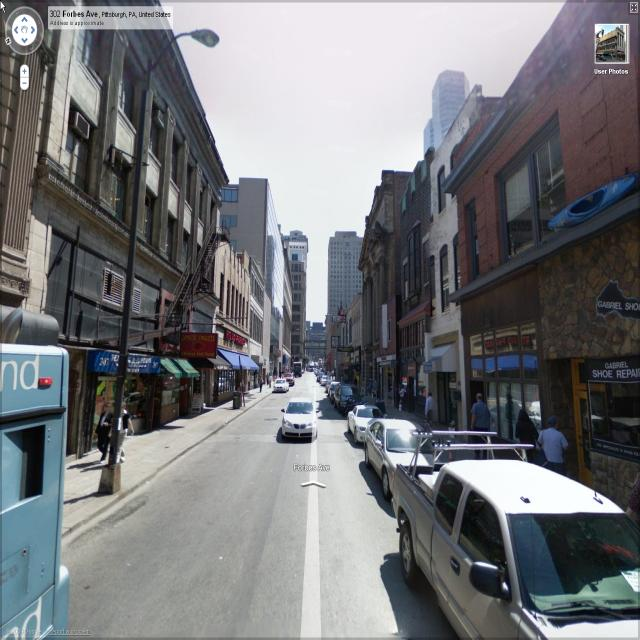b_1: (462, 95, 640, 508), (6, 1, 216, 350), (432, 111, 498, 420), (370, 158, 420, 414), (400, 167, 440, 412), (243, 164, 288, 368), (196, 234, 253, 363), (274, 224, 324, 371), (414, 72, 478, 160), (324, 233, 376, 328), (233, 270, 273, 382), (335, 294, 369, 390)
